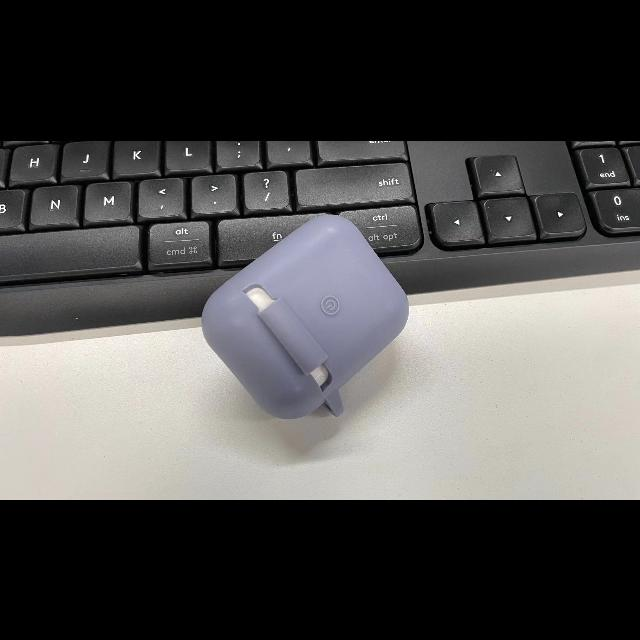airpods: (200, 213, 408, 420)
